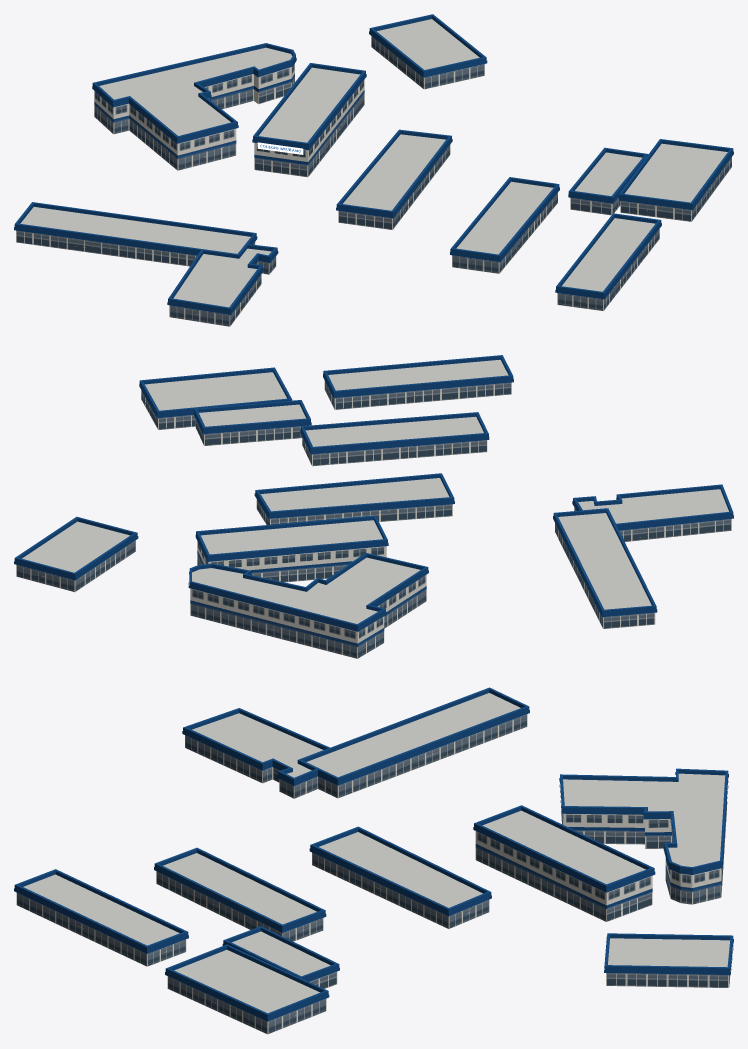
Rendered from colegioarubano.glb.
3 views of the same model, one above another, from view 1: azimuth 30°, elevation 25°; view 2: azimuth 150°, elevation 25°; view 3: azimuth 270°, elevation 25° (orthographic). The views are drawn at different scales.
Parts seen in each view (by area): view 1: colegioarubano_lod0; view 2: colegioarubano_lod0; view 3: colegioarubano_lod0.
Part boxes in pixels (x1,y1,x2,y2): colegioarubano_lod0: (14, 14, 733, 326); colegioarubano_lod0: (14, 355, 733, 658); colegioarubano_lod0: (14, 687, 733, 1034).
Size of what is drawn, in the model's own units: 153 by 8 by 142.
5 materials, 3 textured.
